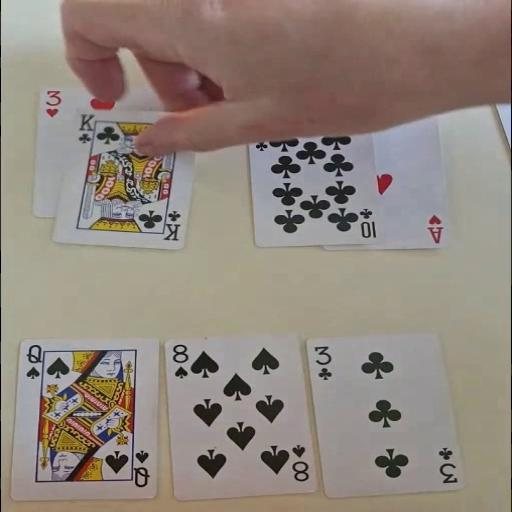10: (358, 207, 377, 239)
3: (435, 445, 459, 484), (312, 344, 334, 381), (42, 88, 62, 118)
8: (289, 442, 310, 482), (172, 342, 191, 379)
A: (426, 213, 444, 244)
K: (160, 208, 182, 241), (75, 120, 96, 144)
Q: (130, 448, 151, 489), (23, 342, 43, 380)
